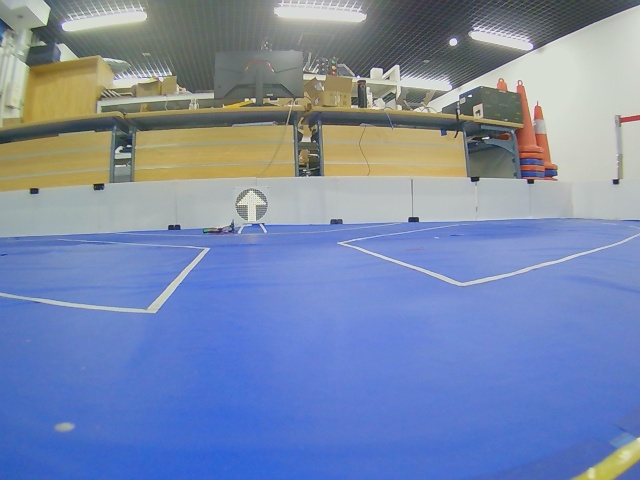straight_yellow: (236, 188, 267, 223)
